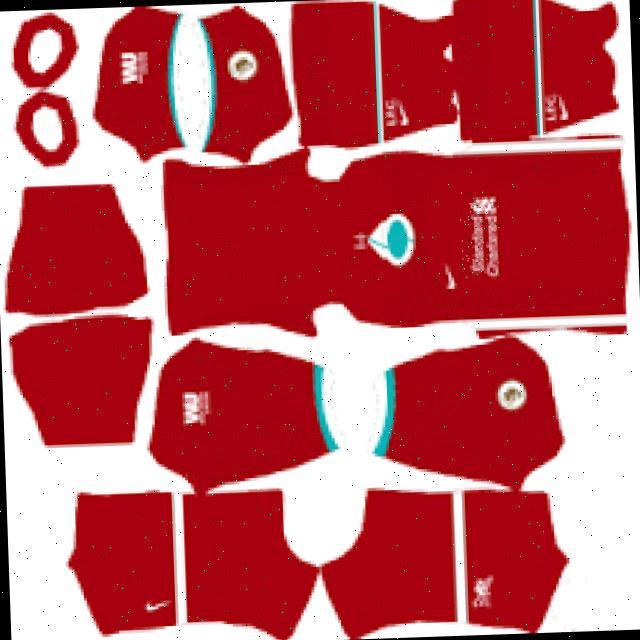Standard Chartered: (459, 191, 502, 275)
